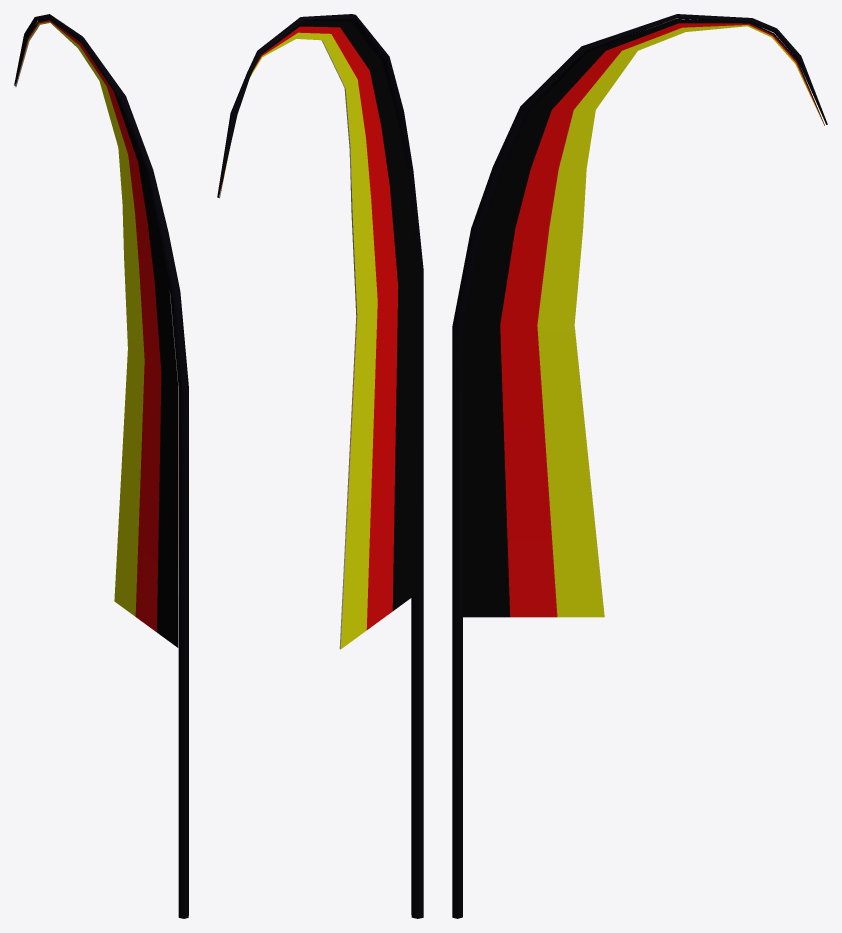
File: Bendera padang.fbx
3 renders of one model, left to right at view 1: azimuth 30°, elevation 25°; view 2: azimuth 150°, elevation 25°; view 3: azimuth 270°, elevation 25°, orthographic. The views are drawn at different scales.
Parts seen in each view (by area): view 1: Plane.001; view 2: Plane.001; view 3: Plane.001.
Boxes of the visible parts, x1,y1,x2,y2 form: Plane.001: (14, 14, 188, 918); Plane.001: (217, 14, 423, 918); Plane.001: (452, 14, 827, 918).
Size of the model in its own units: 34.96 by 2167 by 820.
